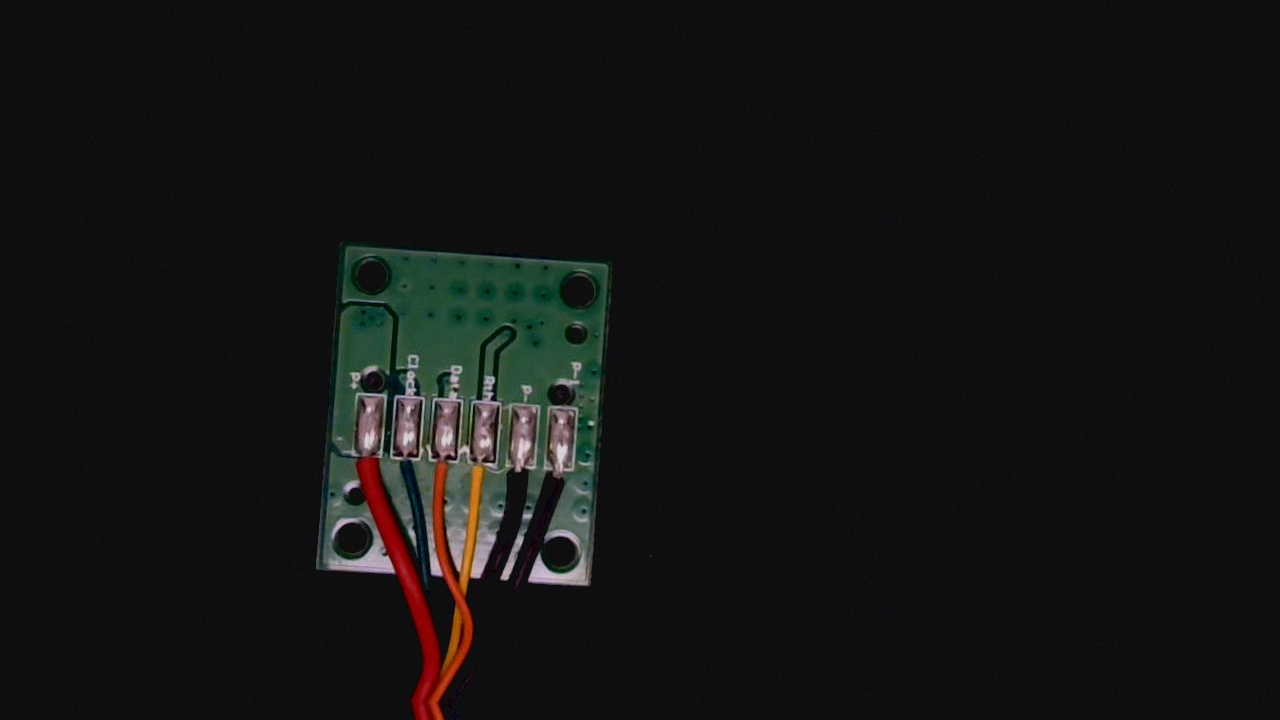Black: (501, 449, 538, 511)
Black1: (540, 449, 579, 519)
Green: (389, 441, 420, 502)
Orange: (424, 443, 460, 507)
Red: (346, 437, 386, 509)
Yellow: (460, 445, 501, 522)
